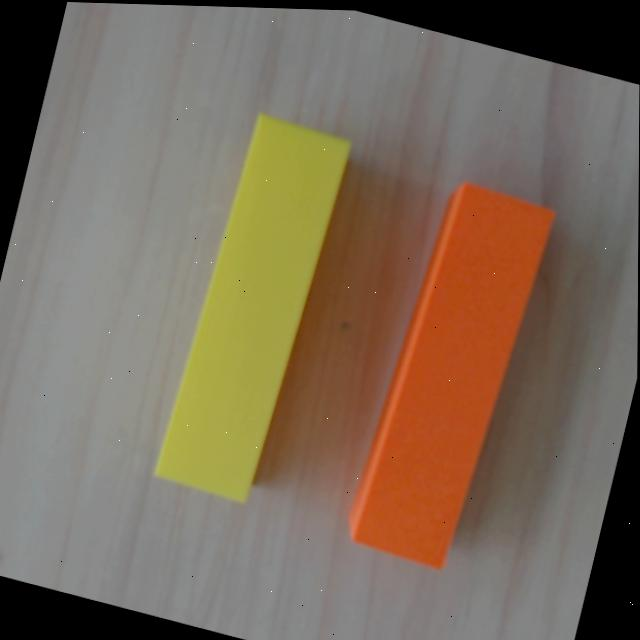Balok-Jingga-1002525: (342, 179, 555, 570)
Balok-Kuning-1002525: (152, 113, 350, 503)
